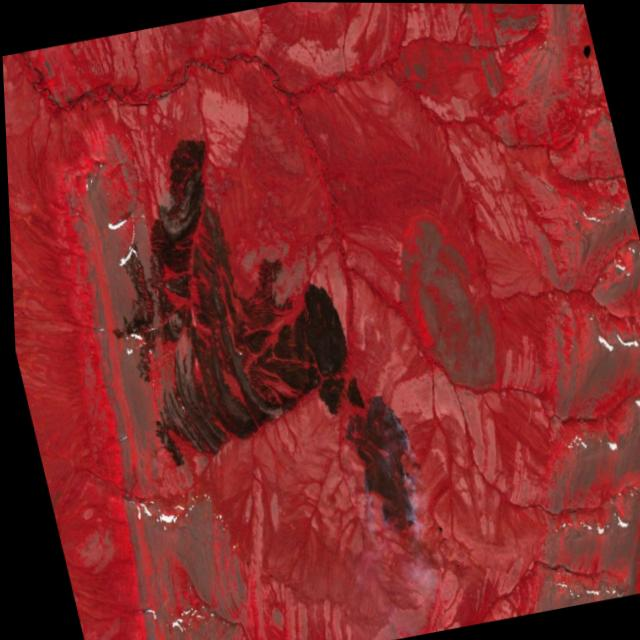fire: (325, 384, 428, 544)
